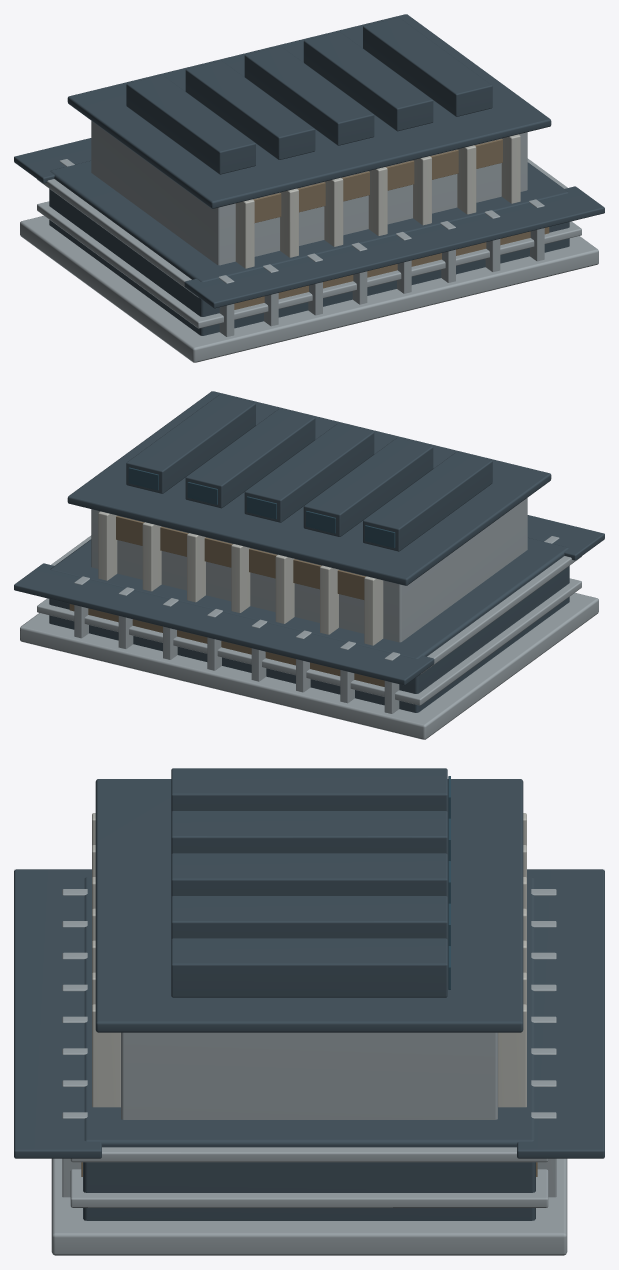
Rendered from CanalWorks.fbx.
3 renders of one model, top to bottom at view 1: azimuth 30°, elevation 25°; view 2: azimuth 150°, elevation 25°; view 3: azimuth 270°, elevation 25°, orthographic. The views are drawn at different scales.
Visible parts, largest first — view 1: CanalWorks; view 2: CanalWorks; view 3: CanalWorks.
Boxes of the visible parts, left/top/right/bottom form: CanalWorks: left=14, top=14, right=604, bottom=362; CanalWorks: left=14, top=391, right=604, bottom=739; CanalWorks: left=14, top=768, right=604, bottom=1255.
Bounding box in the file's own units: 55 × 21.5 × 47.
